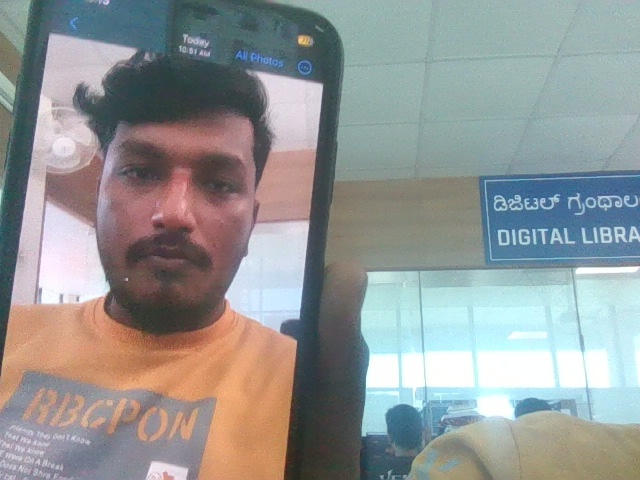fake: (64, 16, 292, 339)
